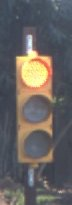Red: (8, 45, 57, 169)
